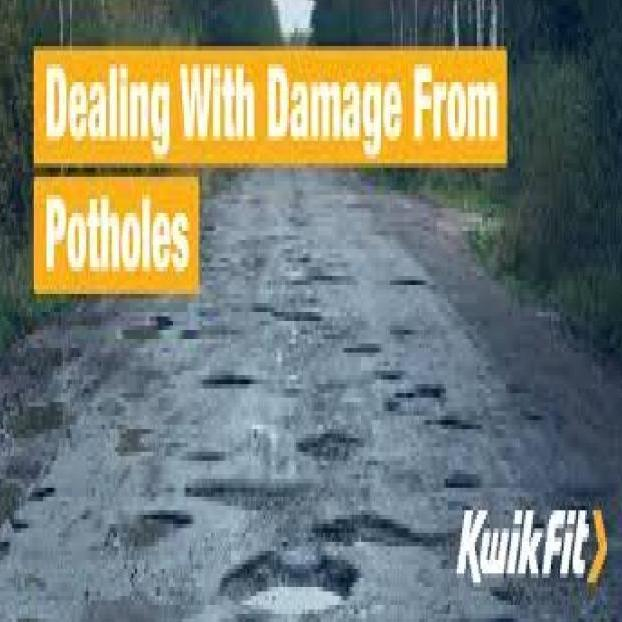pothole: (210, 555, 392, 607), (186, 468, 308, 508), (0, 391, 82, 440), (293, 523, 436, 548), (293, 417, 364, 459), (182, 363, 256, 394), (131, 514, 202, 541), (440, 469, 486, 494), (279, 308, 334, 327), (173, 447, 233, 460), (340, 343, 380, 357), (420, 421, 484, 429), (410, 383, 444, 397)
